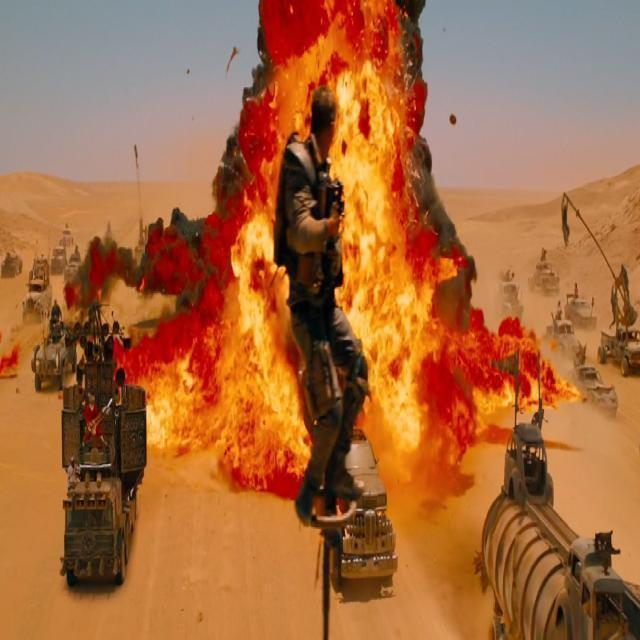fire: (64, 0, 586, 488)
